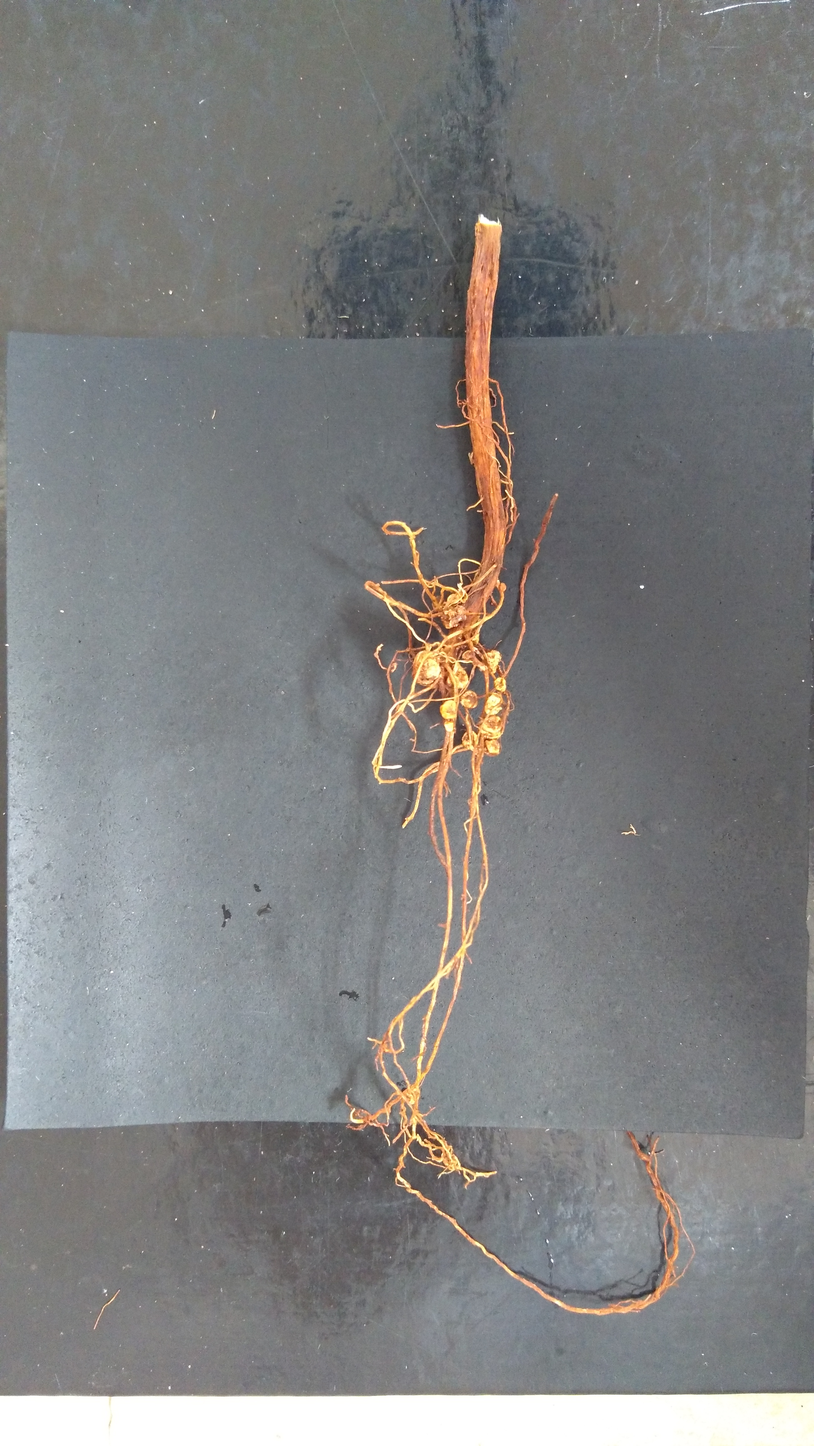nodule: (410, 649, 441, 688), (439, 604, 468, 631), (477, 713, 505, 740), (445, 661, 471, 690), (481, 649, 504, 675), (483, 690, 503, 717), (458, 688, 479, 711), (460, 728, 479, 752), (438, 698, 458, 720), (482, 737, 502, 756), (403, 1086, 422, 1106), (493, 676, 508, 692), (442, 1153, 458, 1168), (441, 719, 455, 733), (461, 648, 474, 661), (446, 592, 460, 604), (497, 581, 508, 593)
